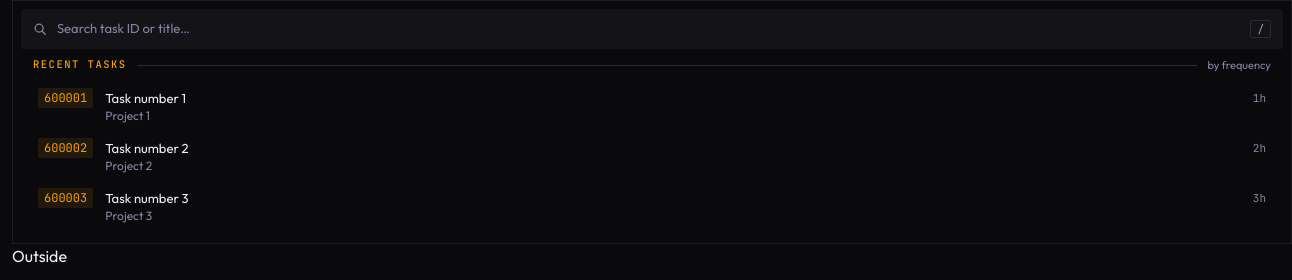
Test: TaskPicker › typing searches the full history and changes the label
Type "invoice" into the dropdown with placeholder "Search task ID or title…".
click(616, 29); type("invoice")  # box [57,19,1174,39]
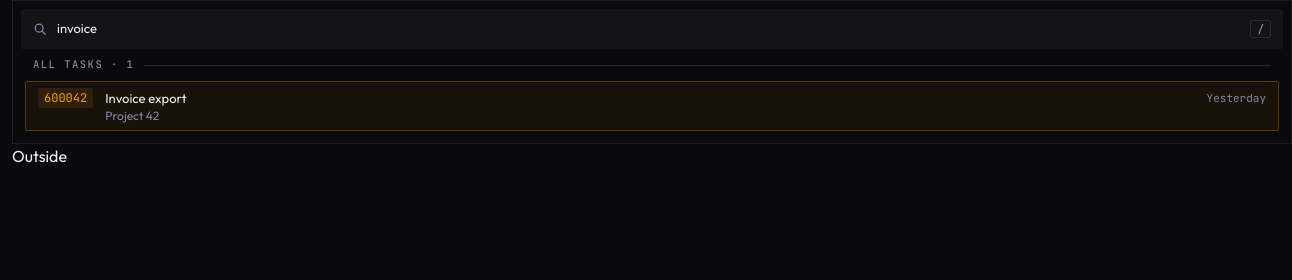
Expected: the text "All tasks · 1" is shown, [33,57,134,73]
Expected: the number of options is 1, [25,81,1279,131]
Expected: the option shows "Invoice export", [25,81,1279,131]
